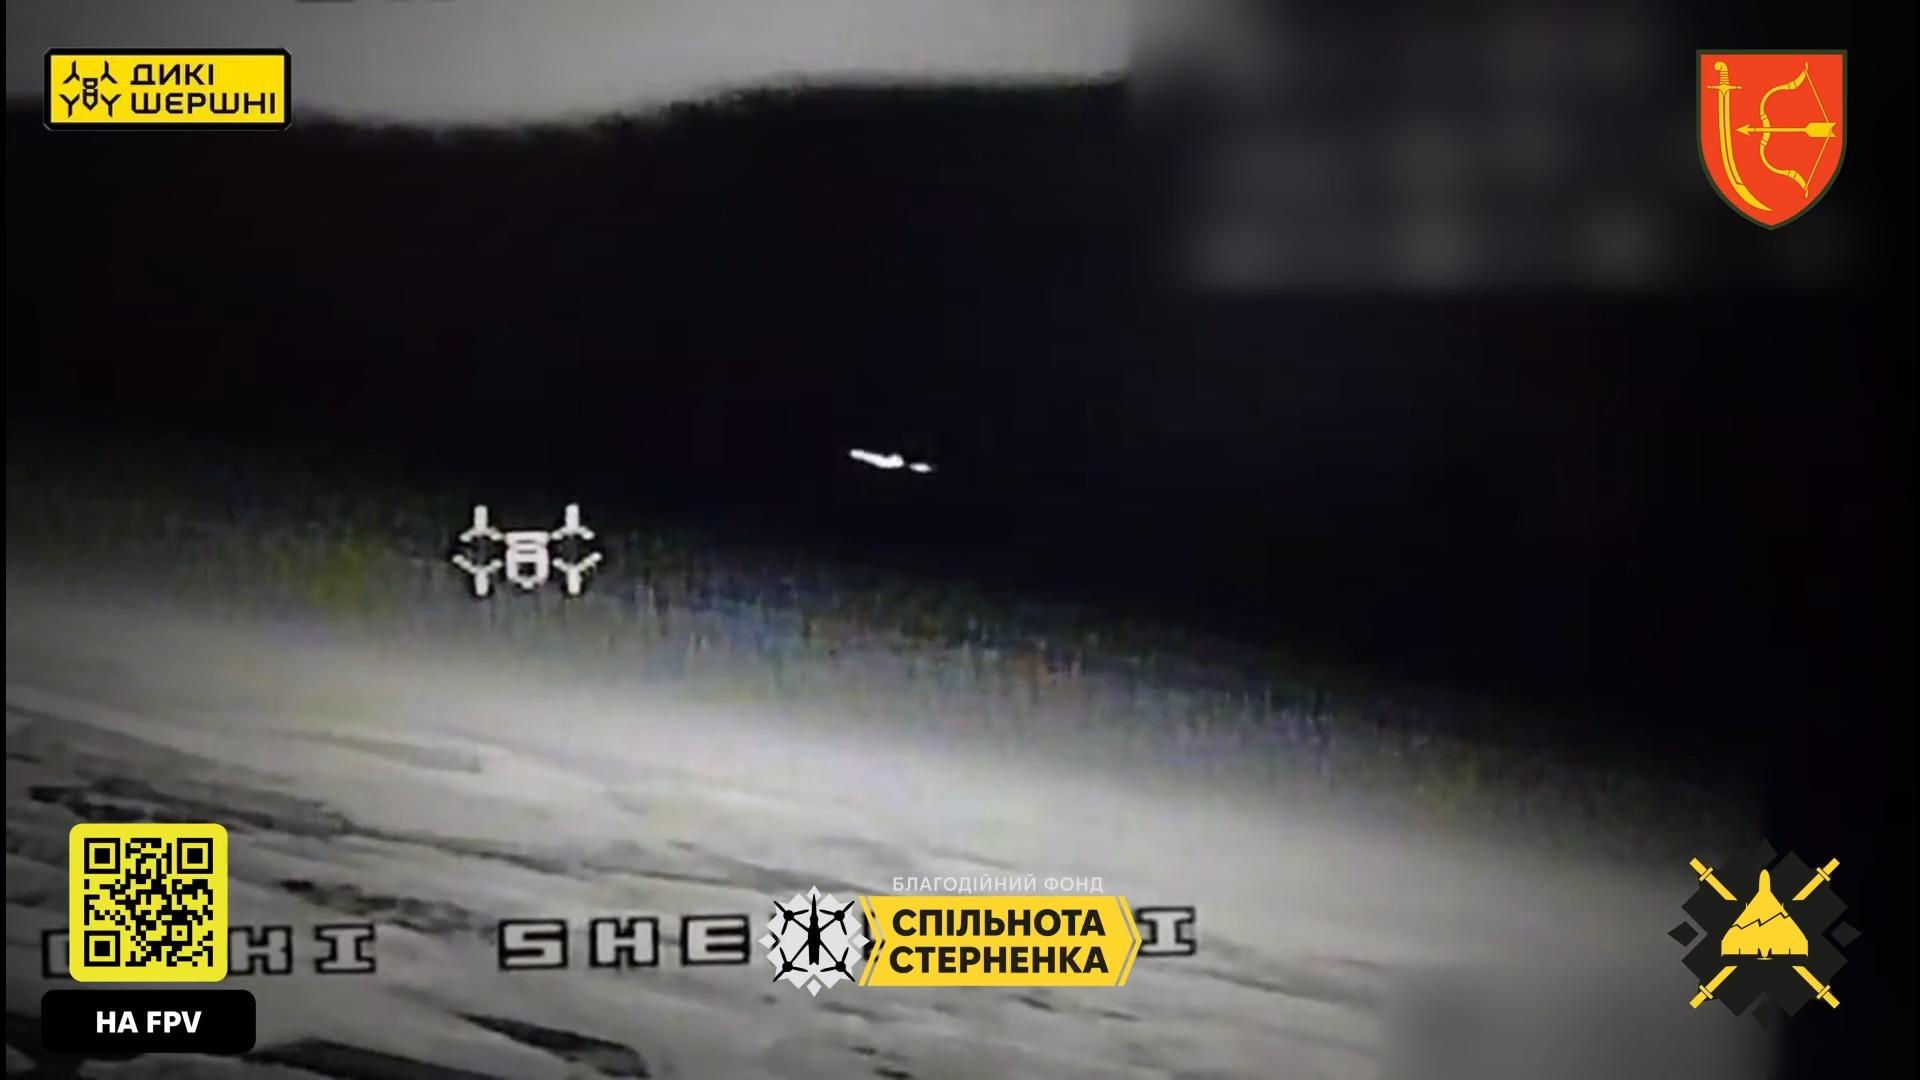Gerbera: (848, 447, 936, 472)
